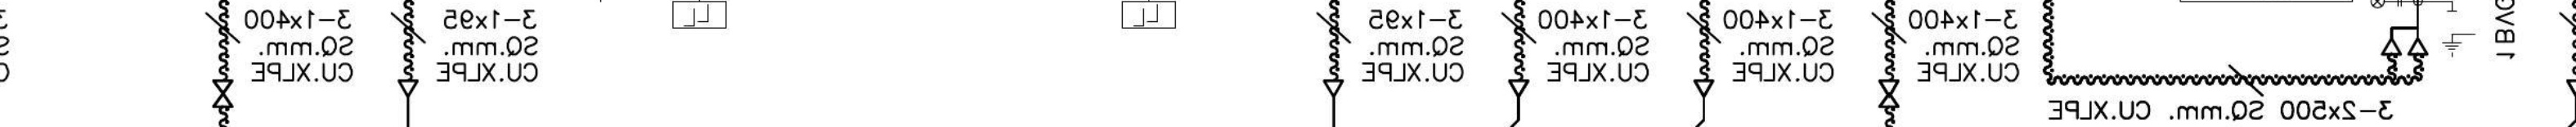22_gs: (2440, 8, 2476, 58)
terminator_double: (2381, 26, 2430, 56)
terminator_single: (396, 78, 419, 99), (1321, 78, 1346, 97), (1507, 78, 1531, 97), (1692, 78, 1717, 97)
terminator_splicing_kits: (1878, 79, 1901, 109), (212, 79, 235, 109)
